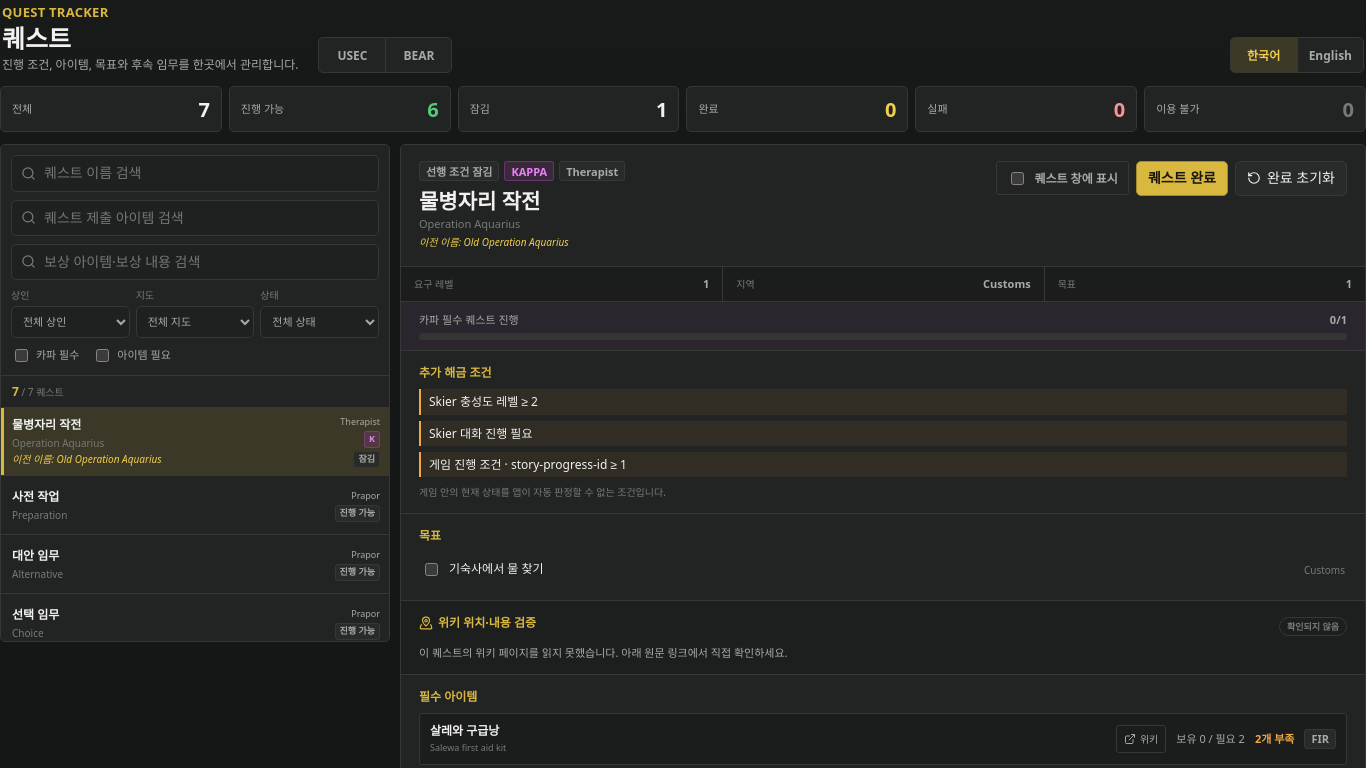
QuestsPage › filters quests by Korean and English reward names below the quest name search
Type "살레와" into the search field named "보상 검색" at (195, 262), box top-left (11, 244), bottom-right (379, 280)
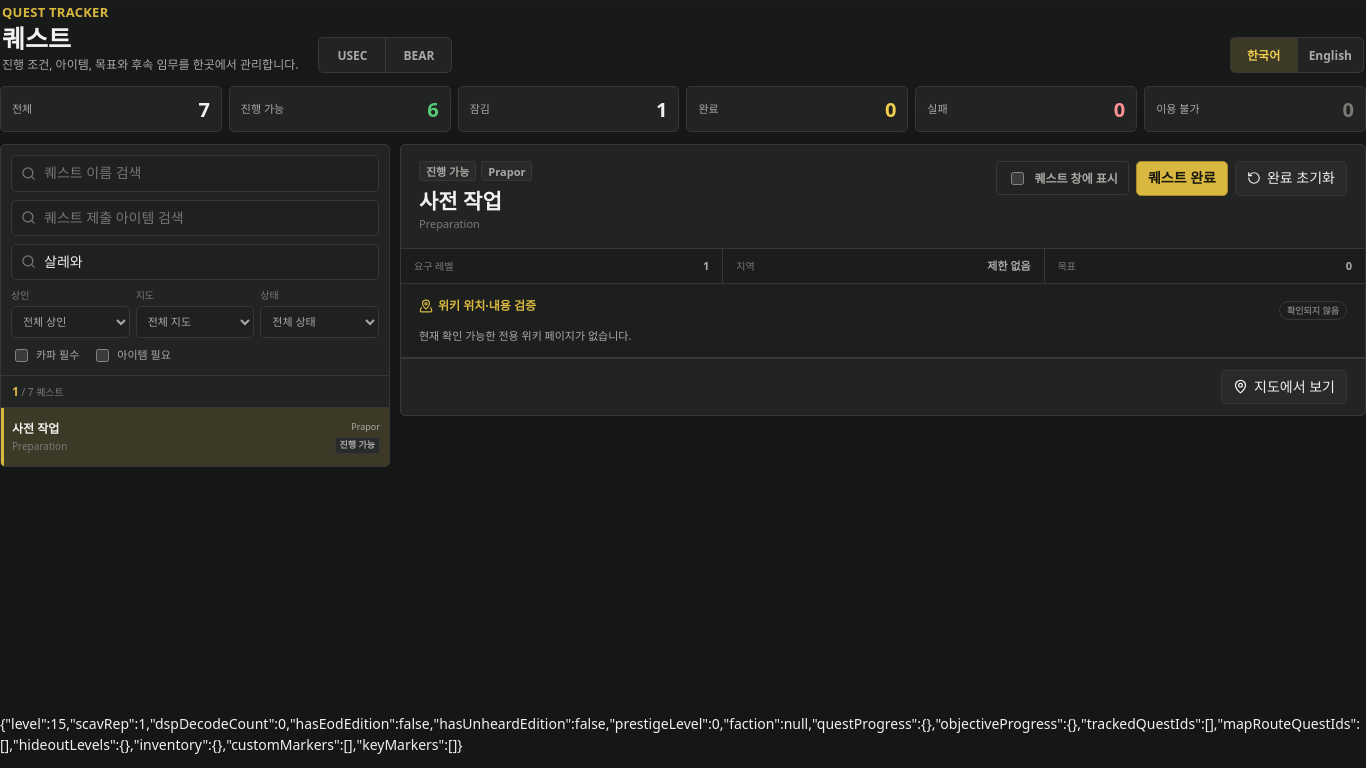
Expected: the button "사전 작업 Preparation Prapor 진행 가능" is shown, top-left (1, 408), bottom-right (389, 466)
Result: the button "물병자리 작전" is gone
Replace the text in the search field named "보상 검색" with "Salewa" at (195, 262), box top-left (11, 244), bottom-right (379, 280)
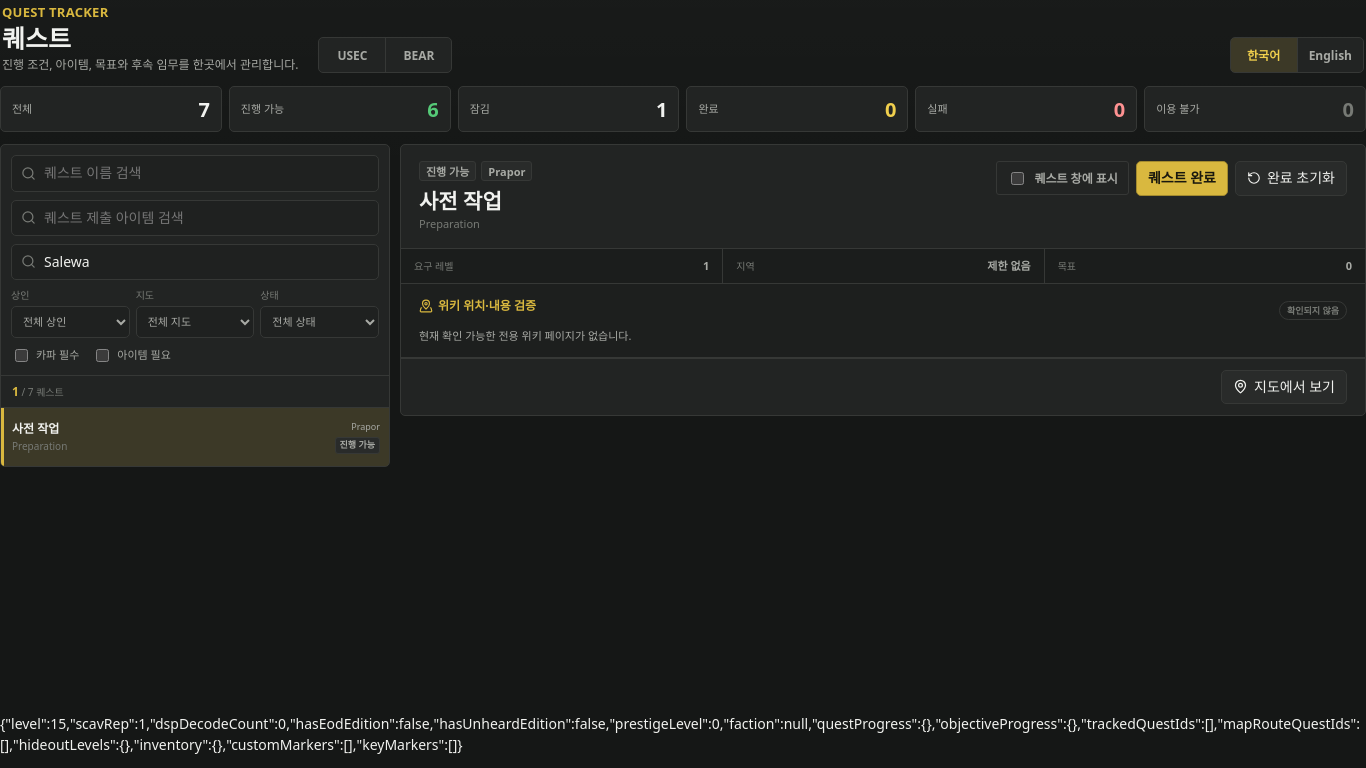
Expected: the button "사전 작업 Preparation Prapor 진행 가능" is shown, top-left (1, 408), bottom-right (389, 466)
Type "물병자리" into the search field named "퀘스트 검색" at (195, 173), box top-left (11, 155), bottom-right (379, 192)
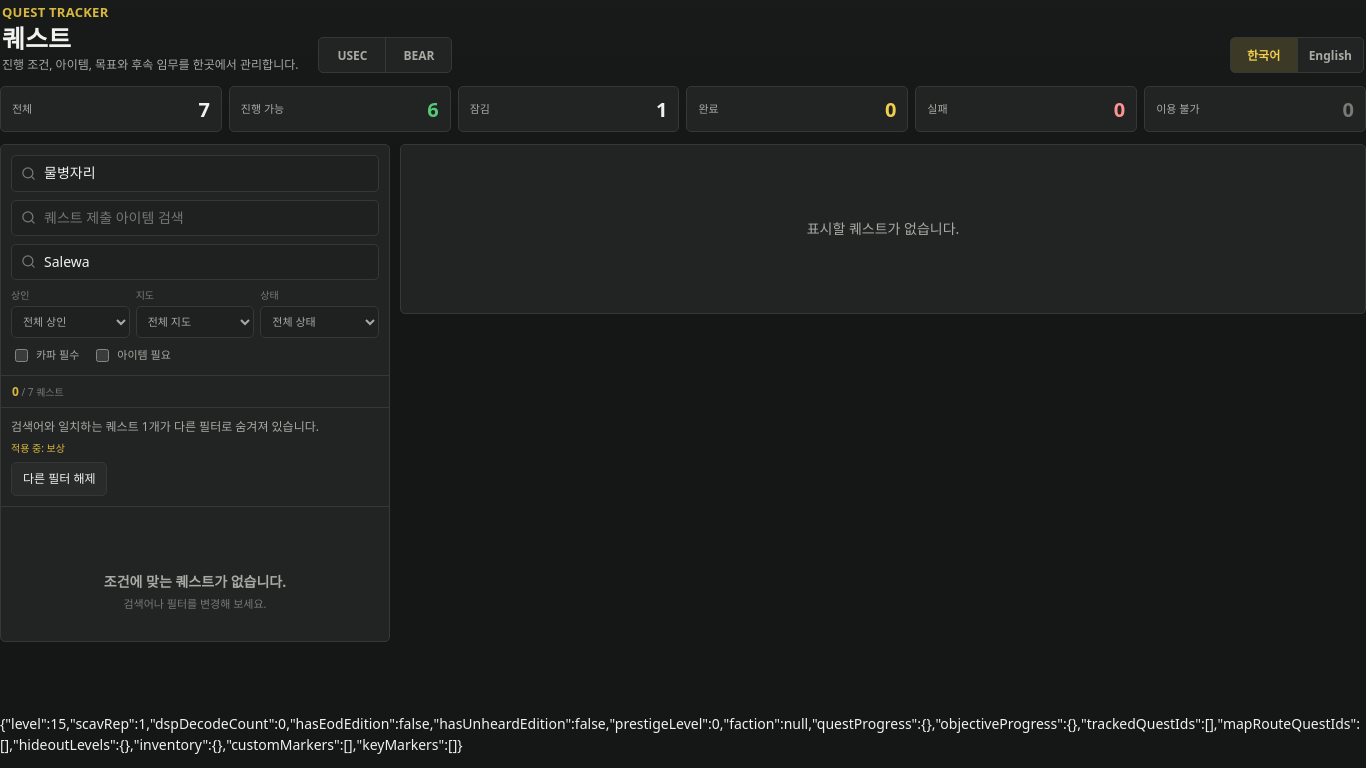
Result: the button "사전 작업 Preparation Prapor 진행 가능" is gone
